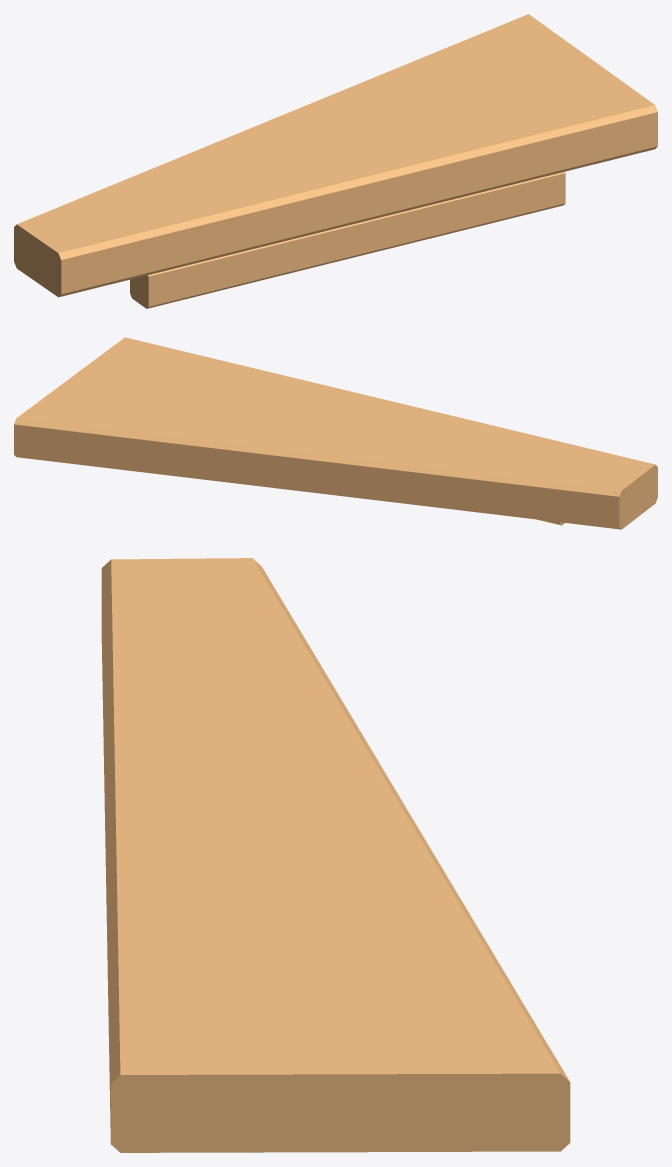
The model's file is stufe1.fbx.
The picture shows the model from 3 angles, top to bottom: view 1: azimuth 30°, elevation 25°; view 2: azimuth 150°, elevation 25°; view 3: azimuth 270°, elevation 25°; orthographic projection. The views are drawn at different scales.
Parts seen in each view (by area): view 1: stufe 1; view 2: stufe 1; view 3: stufe 1.
Boxes of the visible parts, x1=… form: stufe 1: x1=14, y1=14, x2=657, y2=308; stufe 1: x1=14, y1=337, x2=657, y2=529; stufe 1: x1=101, y1=558, x2=570, y2=1152.
Size of the model in its own units: 259 by 32.56 by 99.07.
